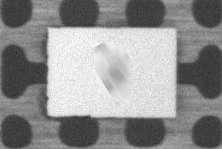DIE_INK: (89, 41, 130, 97)
